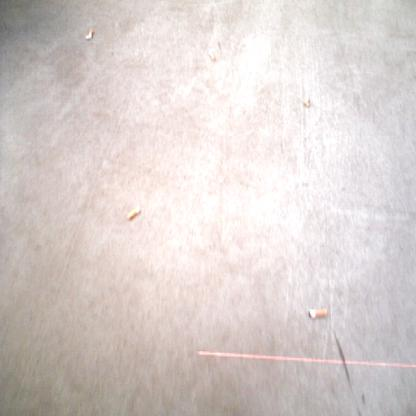dirty: (308, 307, 328, 319), (126, 206, 140, 222), (207, 50, 217, 62), (85, 28, 95, 40), (302, 98, 312, 109)
mark: (332, 331, 352, 391), (356, 391, 365, 416), (279, 140, 284, 156), (216, 40, 222, 51), (110, 50, 114, 57)
